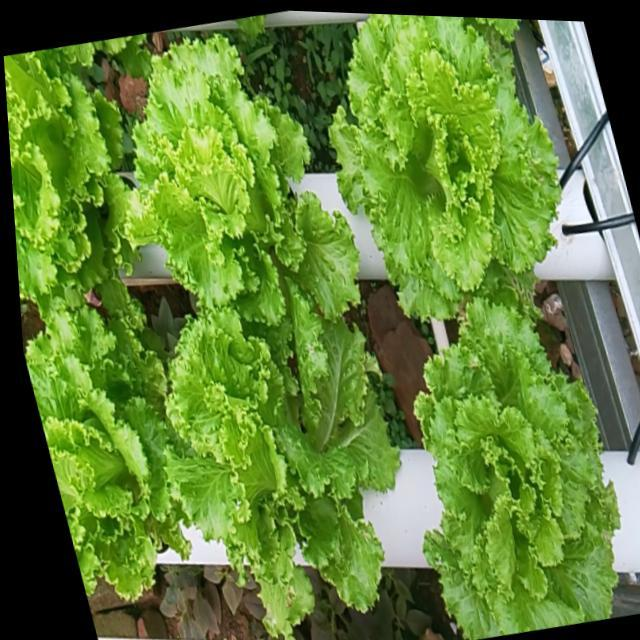Mature: (163, 307, 398, 637), (122, 28, 358, 351), (413, 293, 618, 640), (328, 14, 560, 317), (23, 298, 187, 595), (4, 49, 132, 314)
